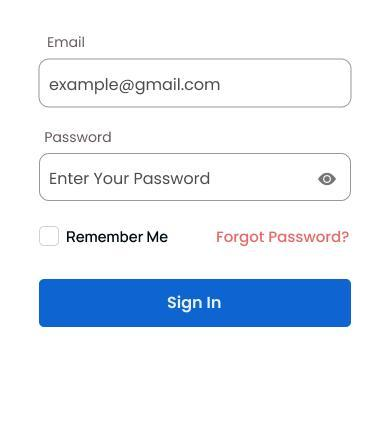button: (40, 280, 353, 328)
checkbox: (38, 227, 62, 248)
input: (40, 154, 351, 203), (40, 59, 352, 107)
label: (64, 228, 175, 250), (43, 130, 120, 150), (43, 31, 90, 56)
